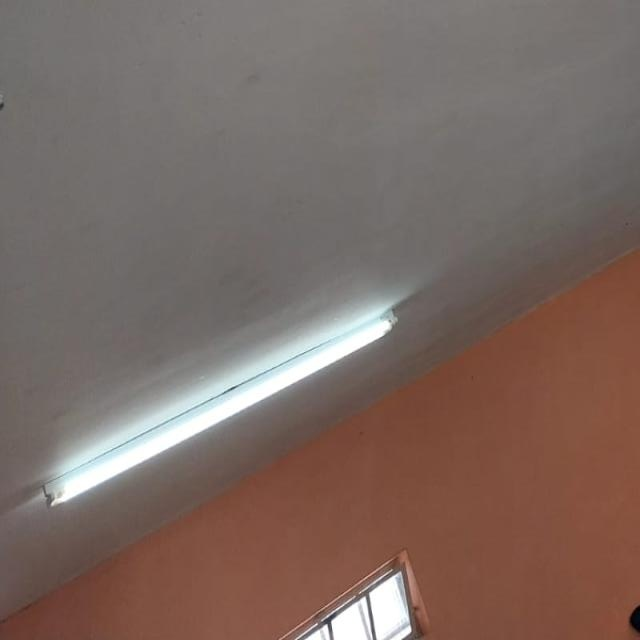fluorescent tube: (32, 280, 440, 552)
